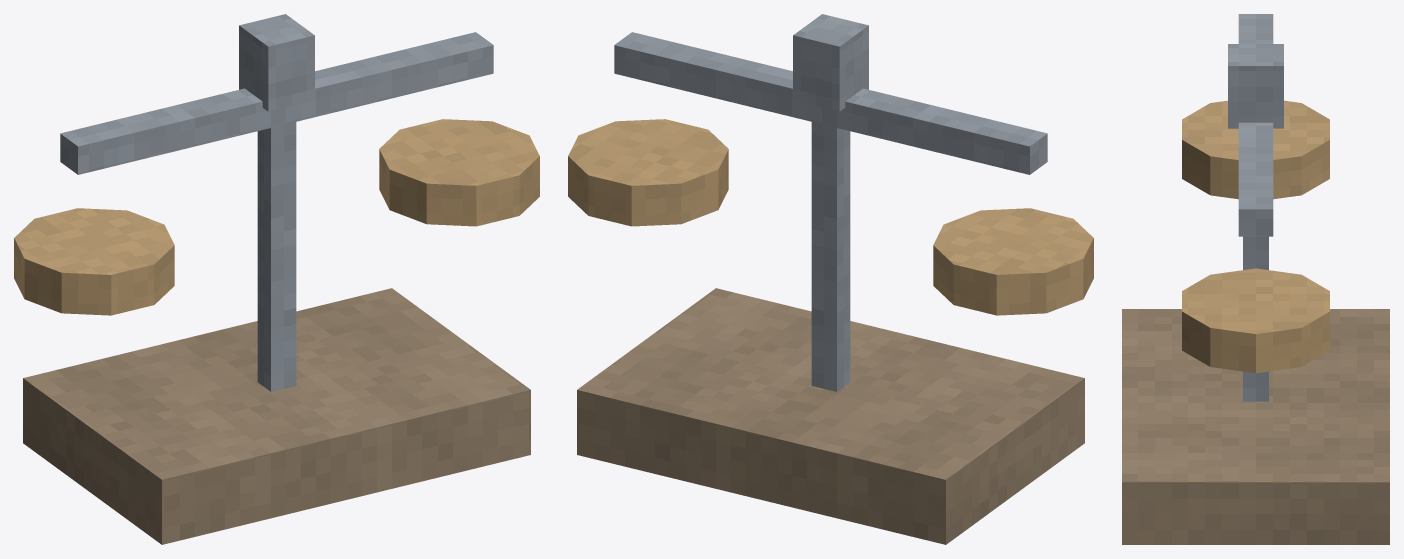
Rendered from level_blockout_assay_balance.glb.
3 views of the same model, side by side, from view 1: azimuth 30°, elevation 25°; view 2: azimuth 150°, elevation 25°; view 3: azimuth 270°, elevation 25° (orthographic). The views are drawn at different scales.
Visible parts, largest first — view 1: level_blockout_assay_balance; view 2: level_blockout_assay_balance; view 3: level_blockout_assay_balance.
Boxes of the visible parts, x1,y1,x2,y2 form: level_blockout_assay_balance: (14,14,539,544); level_blockout_assay_balance: (568,14,1093,544); level_blockout_assay_balance: (1122,14,1389,544).
Size of the model in its own units: 1.3 by 1.03 by 0.62.
3 materials, 3 textured.
